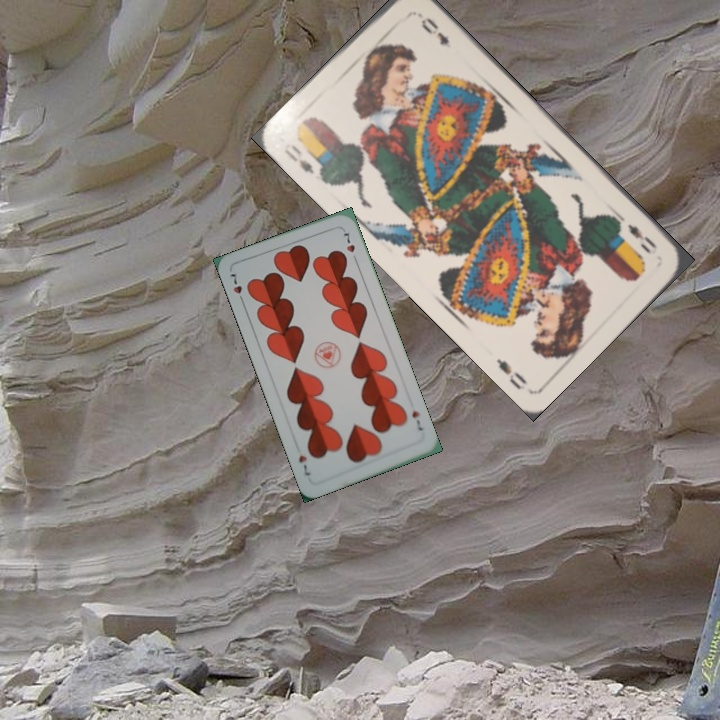EO: (623, 219, 660, 257), (280, 139, 317, 177)
H7: (226, 269, 247, 307), (408, 407, 427, 433)
